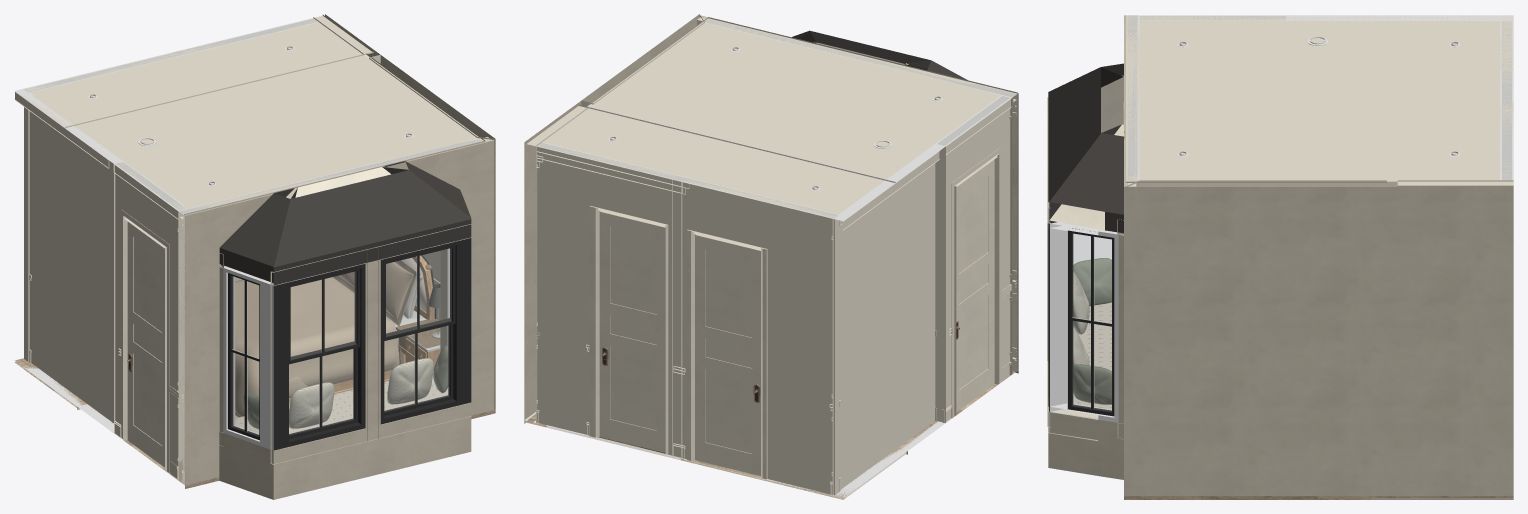
Rendered from loli-bedroom-c77cec767e07.glb.
3 views of the same model, side by side, from view 1: azimuth 30°, elevation 25°; view 2: azimuth 150°, elevation 25°; view 3: azimuth 270°, elevation 25° (orthographic). The views are drawn at different scales.
Parts seen in each view (by area): view 1: loli-bedroom-dbd60ee5c3733ed6, loli-bedroom-6a1144f4e43410bb, loli-bedroom-93447d0fea18c81b, loli-bedroom-fd1c2425c72e98e4, loli-bedroom-4cda501b4aaed82b, loli-bedroom-daa4f3edc919433a, loli-bedroom-2575515a05775d9e, loli-bedroom-7cd33252cebb505d, loli-bedroom-527014f532f46c8e, loli-bedroom-cf6d22c5317ced0b, loli-bedroom-75b75731e5e739a5, loli-bedroom-1c854c81caf855fc (+22 smaller); view 2: loli-bedroom-0e637d2be41161fb, loli-bedroom-dbd60ee5c3733ed6, loli-bedroom-6a1144f4e43410bb, loli-bedroom-eceff908bd344cec, loli-bedroom-5b37b110dc0e2cdc, loli-bedroom-2575515a05775d9e, loli-bedroom-68d06b361ac47823, loli-bedroom-cf6d22c5317ced0b, loli-bedroom-319244b3406409d9, loli-bedroom-93447d0fea18c81b, loli-bedroom-d6b1bc8c737b28e2, loli-bedroom-8cbce1d8f2f8a576 (+14 smaller); view 3: loli-bedroom-592bd9af2ed71797, loli-bedroom-dbd60ee5c3733ed6, loli-bedroom-319244b3406409d9, loli-bedroom-2575515a05775d9e, loli-bedroom-53e6a9e479527da3, loli-bedroom-daa4f3edc919433a, loli-bedroom-131a246e00605616, loli-bedroom-d8b729a36612415b, loli-bedroom-4fba7e1fe7b1aa39, loli-bedroom-93447d0fea18c81b, loli-bedroom-0e637d2be41161fb, loli-bedroom-e0a3201bd49c7536 (+12 smaller).
Part boxes in pixels (x1,y1,x2,y2): loli-bedroom-dbd60ee5c3733ed6: (75, 53, 485, 215); loli-bedroom-6a1144f4e43410bb: (14, 88, 123, 433); loli-bedroom-93447d0fea18c81b: (178, 138, 493, 485); loli-bedroom-fd1c2425c72e98e4: (274, 264, 365, 450); loli-bedroom-4cda501b4aaed82b: (381, 238, 471, 424); loli-bedroom-daa4f3edc919433a: (273, 167, 471, 285); loli-bedroom-2575515a05775d9e: (18, 15, 373, 127); loli-bedroom-7cd33252cebb505d: (235, 277, 399, 416); loli-bedroom-527014f532f46c8e: (223, 266, 273, 450); loli-bedroom-cf6d22c5317ced0b: (127, 222, 164, 467); loli-bedroom-75b75731e5e739a5: (272, 259, 470, 469); loli-bedroom-1c854c81caf855fc: (273, 421, 471, 499); loli-bedroom-0e637d2be41161fb: (536, 142, 839, 495); loli-bedroom-dbd60ee5c3733ed6: (586, 17, 1017, 182); loli-bedroom-6a1144f4e43410bb: (833, 144, 945, 497); loli-bedroom-eceff908bd344cec: (599, 211, 665, 452); loli-bedroom-5b37b110dc0e2cdc: (695, 234, 760, 475); loli-bedroom-2575515a05775d9e: (526, 105, 889, 220); loli-bedroom-68d06b361ac47823: (935, 95, 1011, 422); loli-bedroom-cf6d22c5317ced0b: (956, 159, 994, 411); loli-bedroom-319244b3406409d9: (524, 100, 592, 422); loli-bedroom-93447d0fea18c81b: (701, 15, 1018, 374); loli-bedroom-d6b1bc8c737b28e2: (687, 229, 767, 479); loli-bedroom-8cbce1d8f2f8a576: (954, 154, 999, 416); loli-bedroom-592bd9af2ed71797: (1124, 180, 1386, 495); loli-bedroom-dbd60ee5c3733ed6: (1126, 15, 1397, 182); loli-bedroom-319244b3406409d9: (1387, 180, 1513, 495); loli-bedroom-2575515a05775d9e: (1397, 15, 1513, 186); loli-bedroom-53e6a9e479527da3: (1050, 222, 1118, 422); loli-bedroom-daa4f3edc919433a: (1048, 67, 1123, 222); loli-bedroom-131a246e00605616: (1049, 124, 1124, 233); loli-bedroom-d8b729a36612415b: (1048, 235, 1123, 444); loli-bedroom-4fba7e1fe7b1aa39: (1048, 433, 1123, 479); loli-bedroom-93447d0fea18c81b: (1124, 15, 1139, 186); loli-bedroom-0e637d2be41161fb: (1500, 20, 1513, 180); loli-bedroom-e0a3201bd49c7536: (1073, 302, 1111, 409).
Bounding box in the file's own units: 3.62 × 3.05 × 4.12.
Materials: 46 (14 with a texture image).
